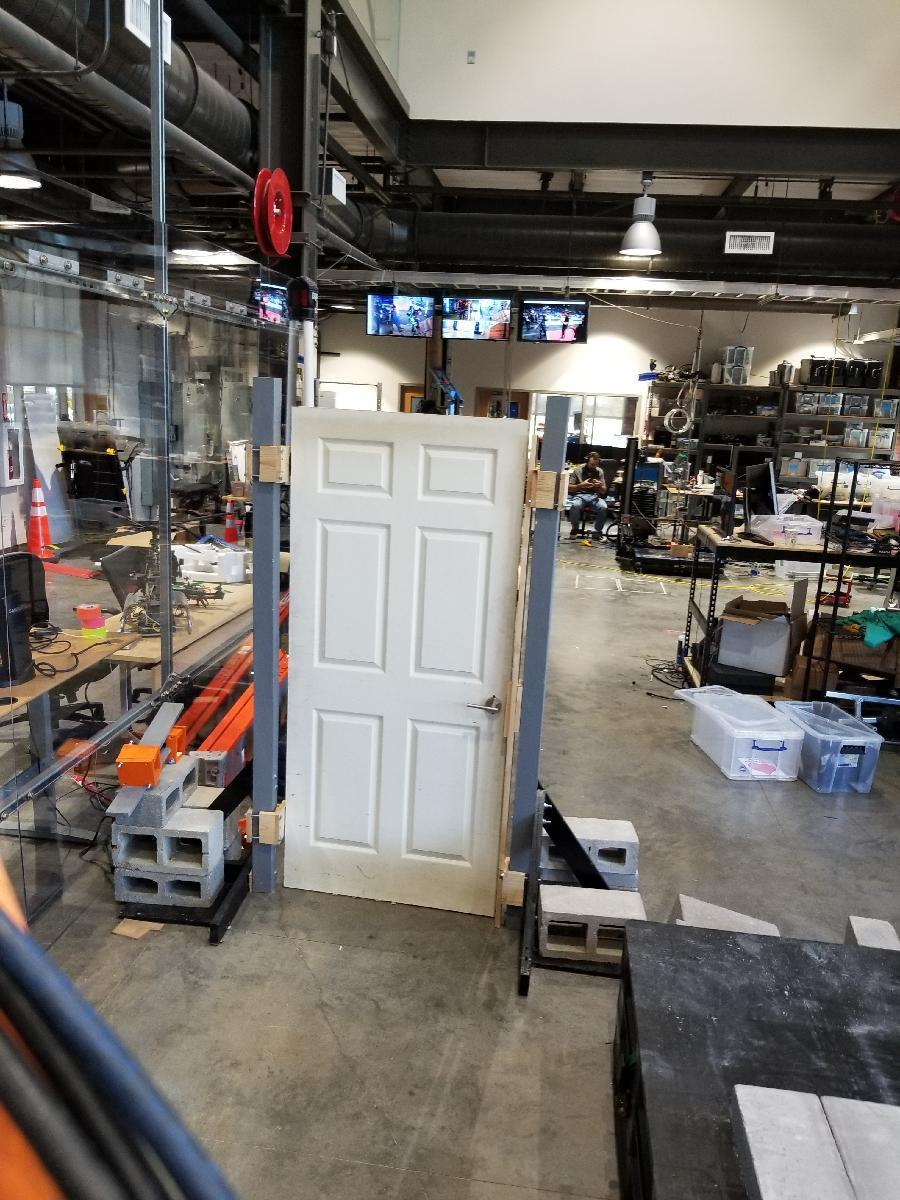door: (291, 410, 524, 906)
handle: (455, 696, 501, 722)
